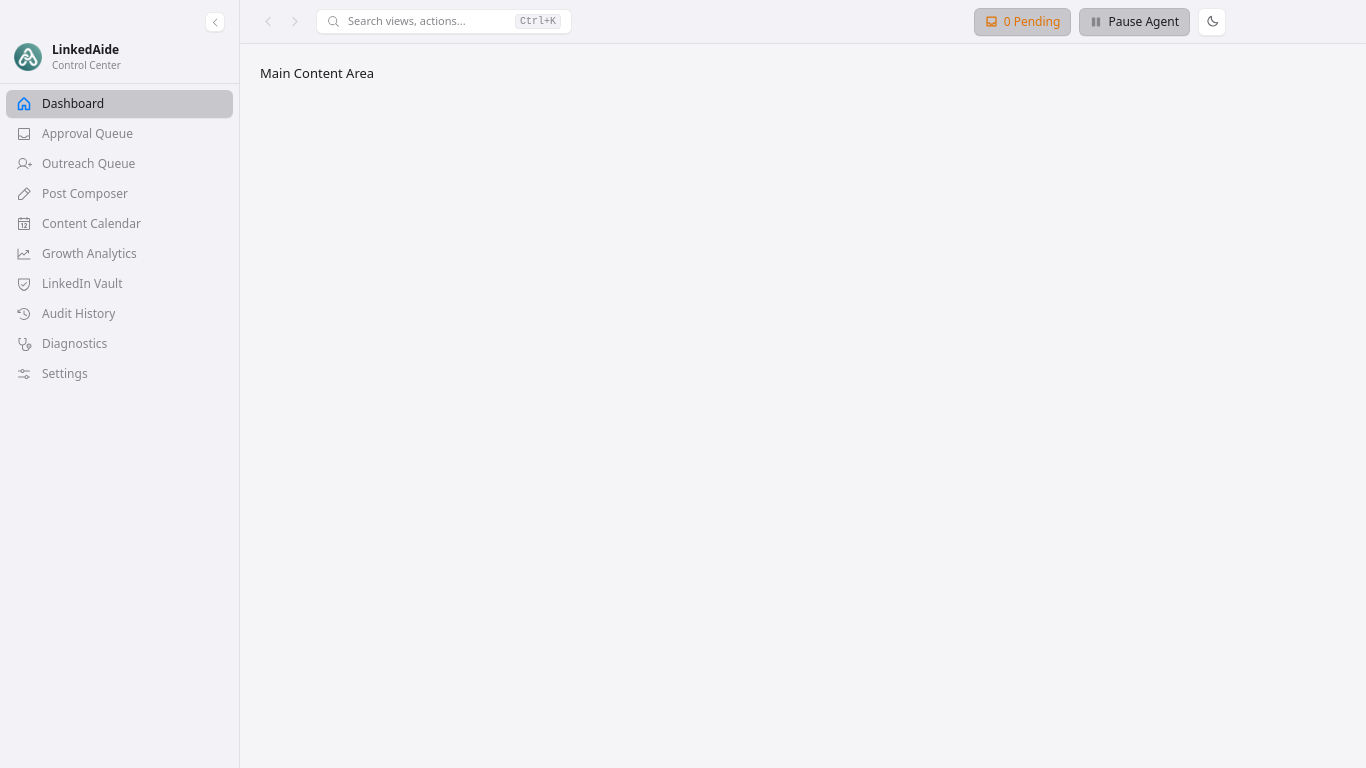
it: AppLayout › toggles pause agent state from the top bar button
Click to pause
Step 1. Click the button with test id "global-pause-button" → (1135, 22), box [1079, 8, 1190, 36]
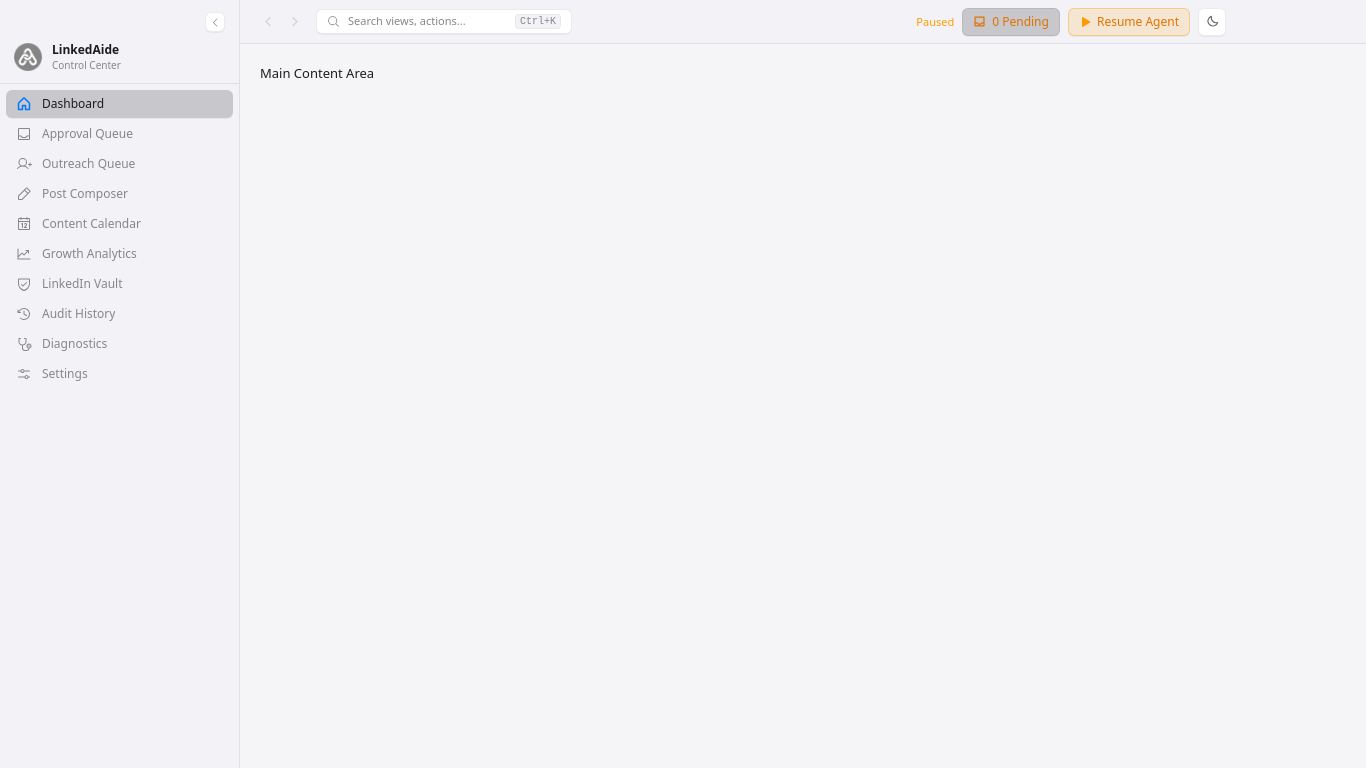
Check: the button with test id "global-pause-button" reads "Resume Agent"
Click to resume
Step 2. Click the button with test id "global-pause-button" → (1129, 22), box [1068, 8, 1190, 36]
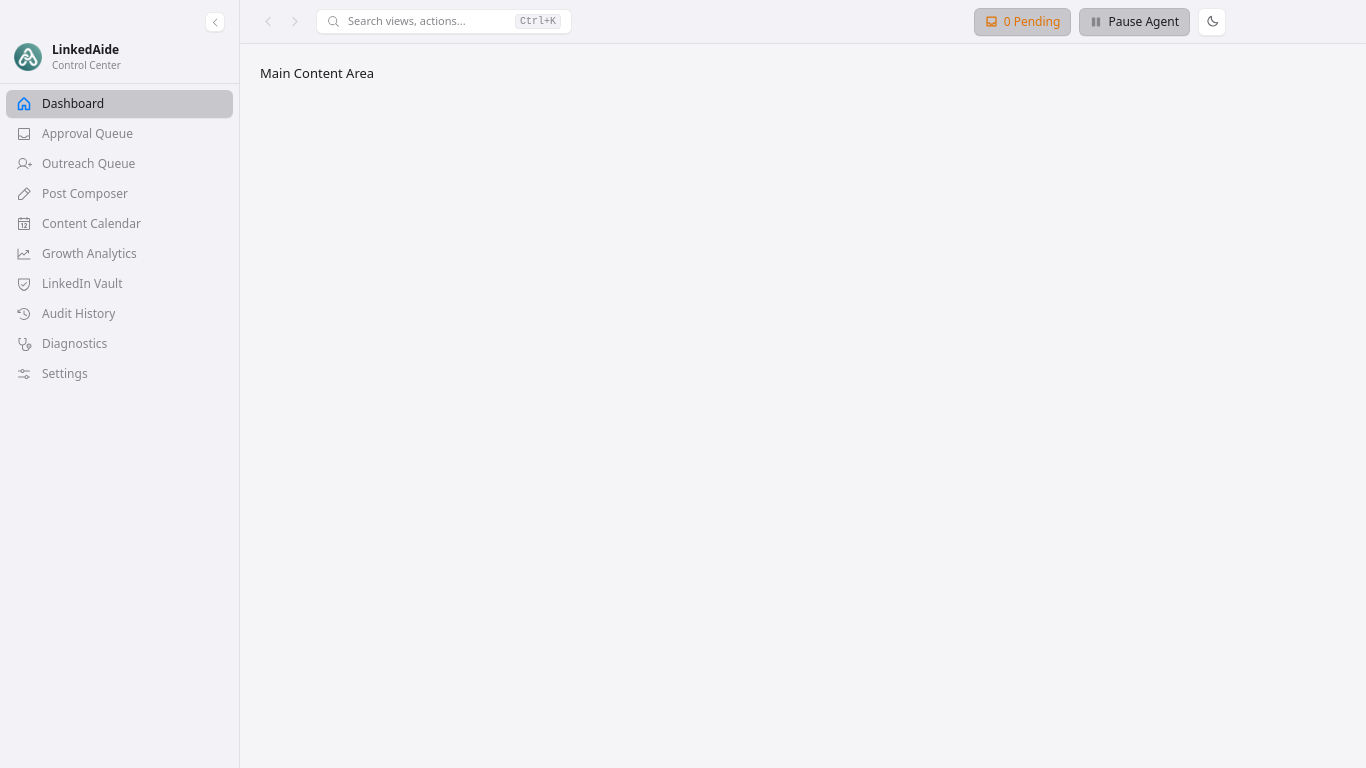
Check: the button with test id "global-pause-button" reads "Pause Agent", box [1079, 8, 1190, 36]
